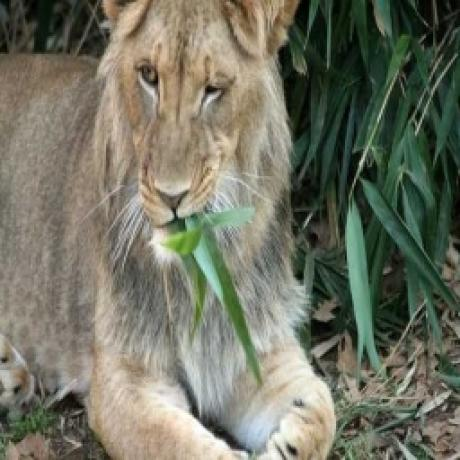Lion: (0, 0, 344, 460)
